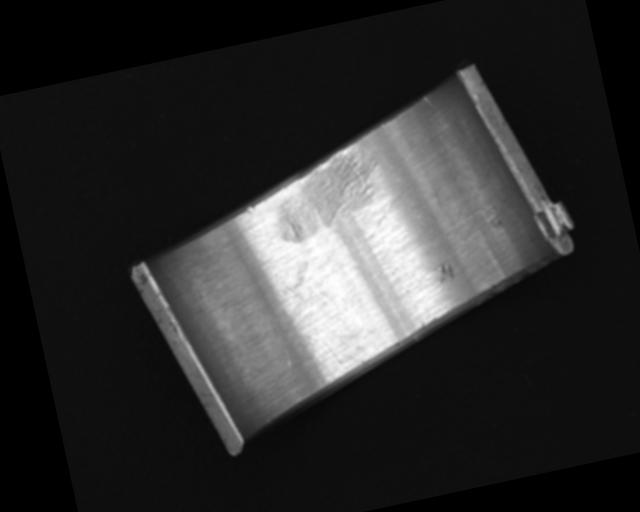blot: (269, 254, 331, 320)
bruise: (434, 261, 456, 285), (242, 204, 256, 216)
nick: (423, 93, 435, 108)
scratch: (265, 143, 394, 248)
